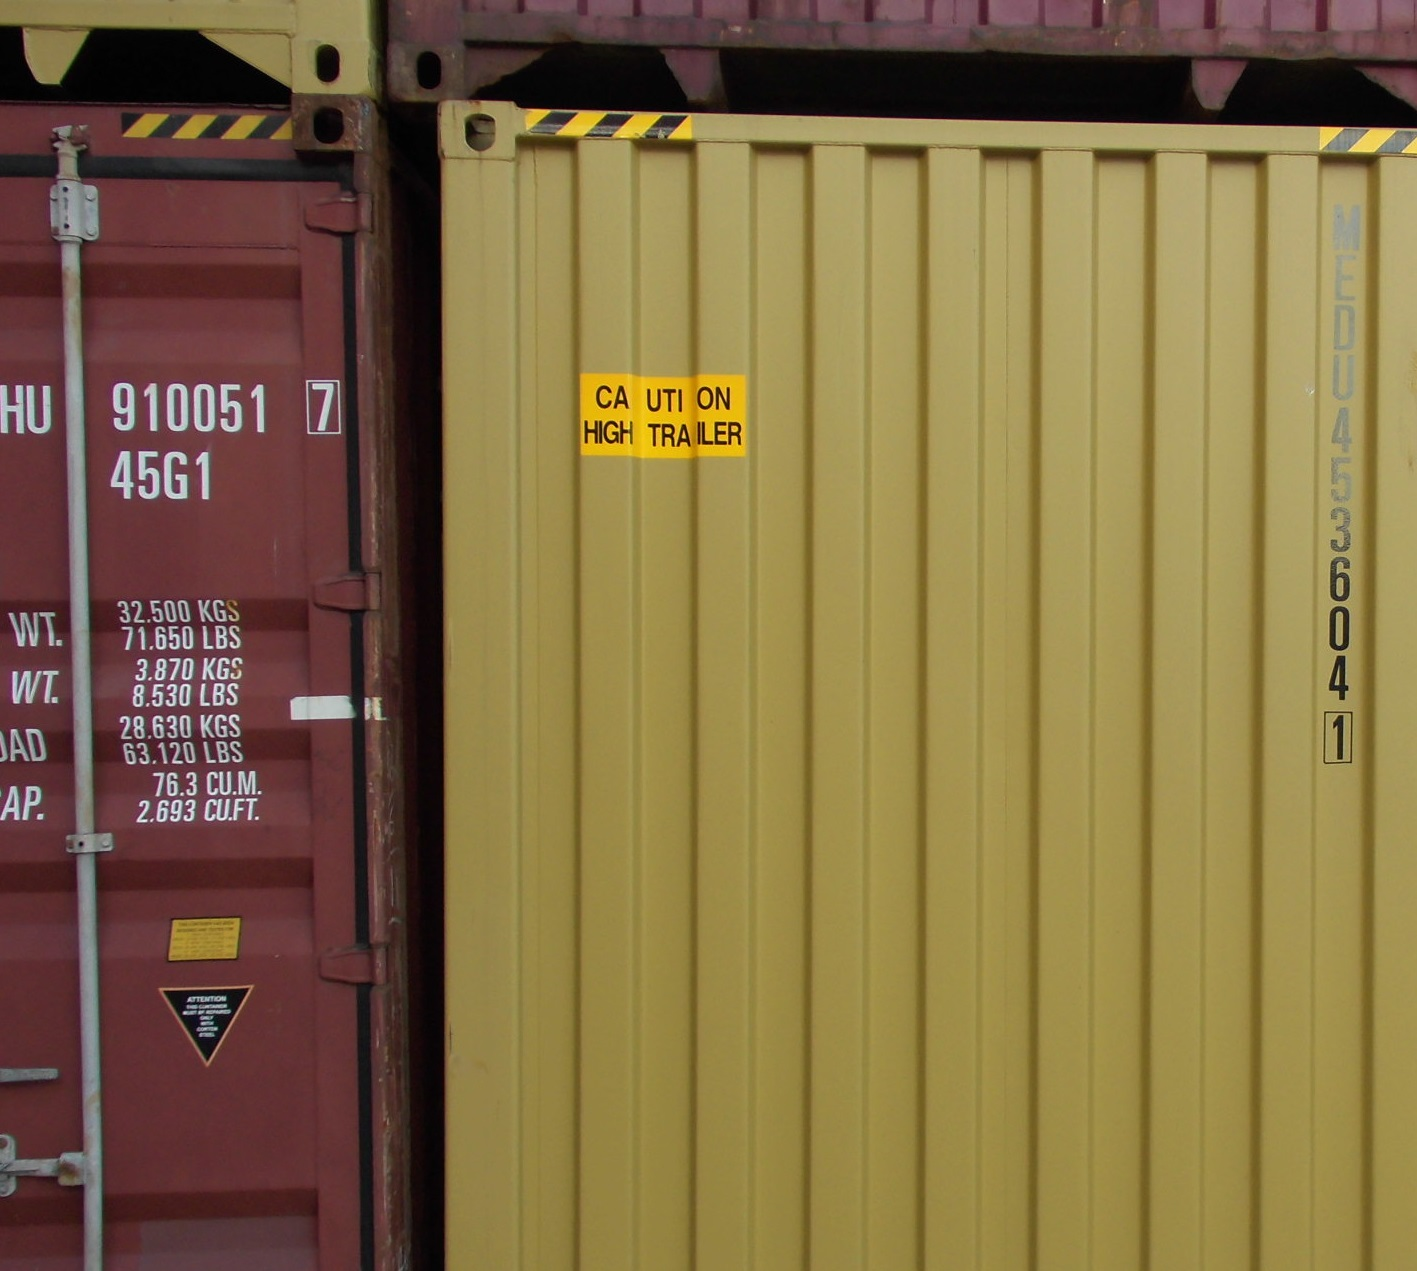container_door: (2, 94, 375, 1270)
container_no_door: (431, 101, 1402, 1271)
